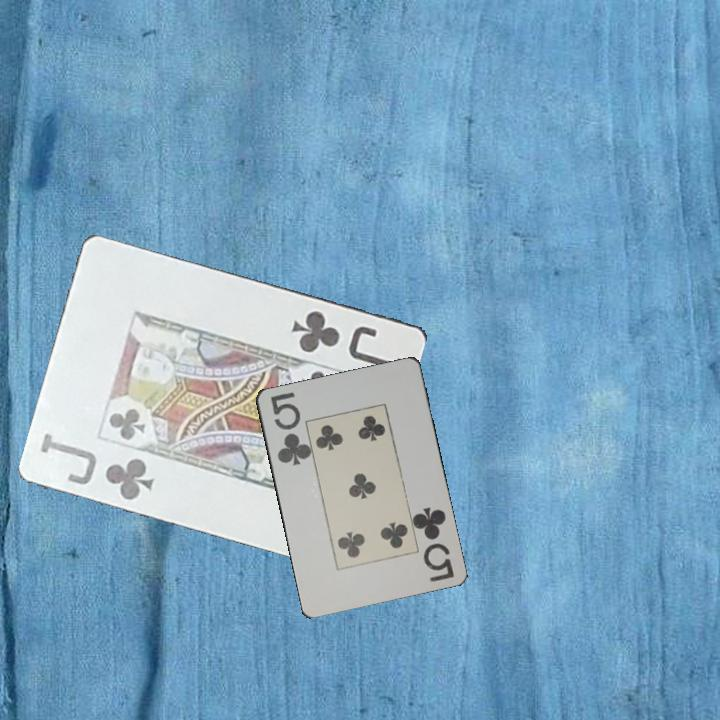5c: (410, 503, 456, 585), (266, 388, 311, 468)
Jc: (37, 429, 159, 503), (288, 306, 408, 380)
